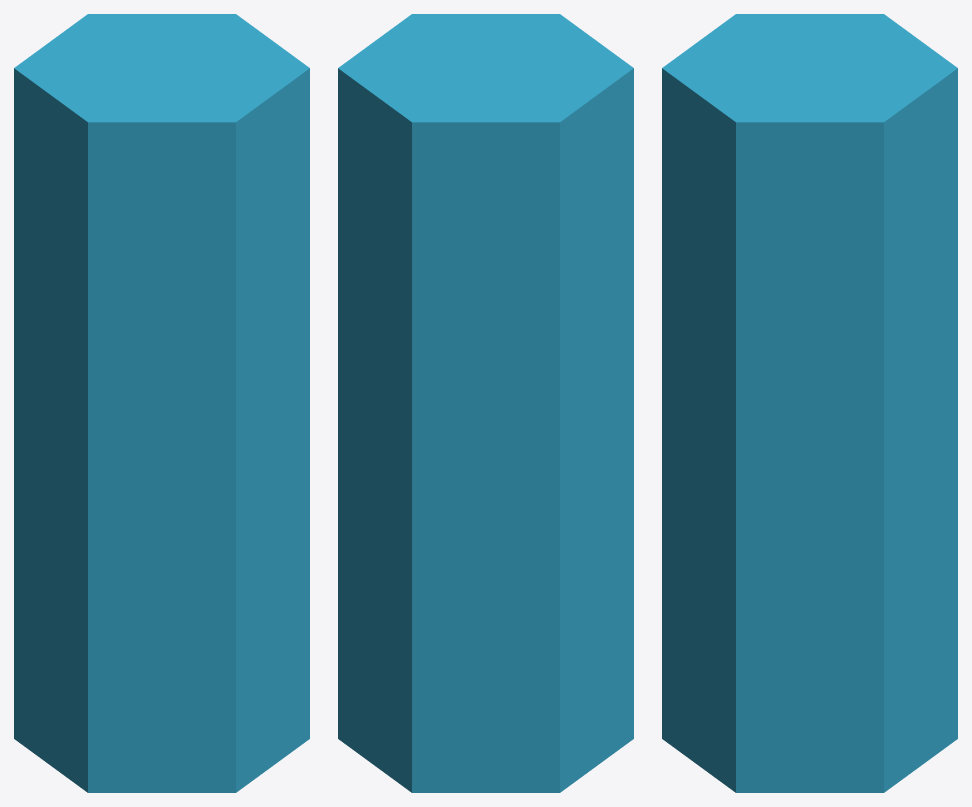
3 renders of one model, left to right at view 1: azimuth 30°, elevation 25°; view 2: azimuth 150°, elevation 25°; view 3: azimuth 270°, elevation 25°, orthographic.
Visible parts, largest first — view 1: 大河; view 2: 大河; view 3: 大河.
Part boxes in pixels (x1,y1,x2,y2): 大河: [14, 14, 309, 792]; 大河: [338, 14, 633, 792]; 大河: [662, 14, 957, 792].
Size of the model in its own units: 400 by 346 by 1000.
